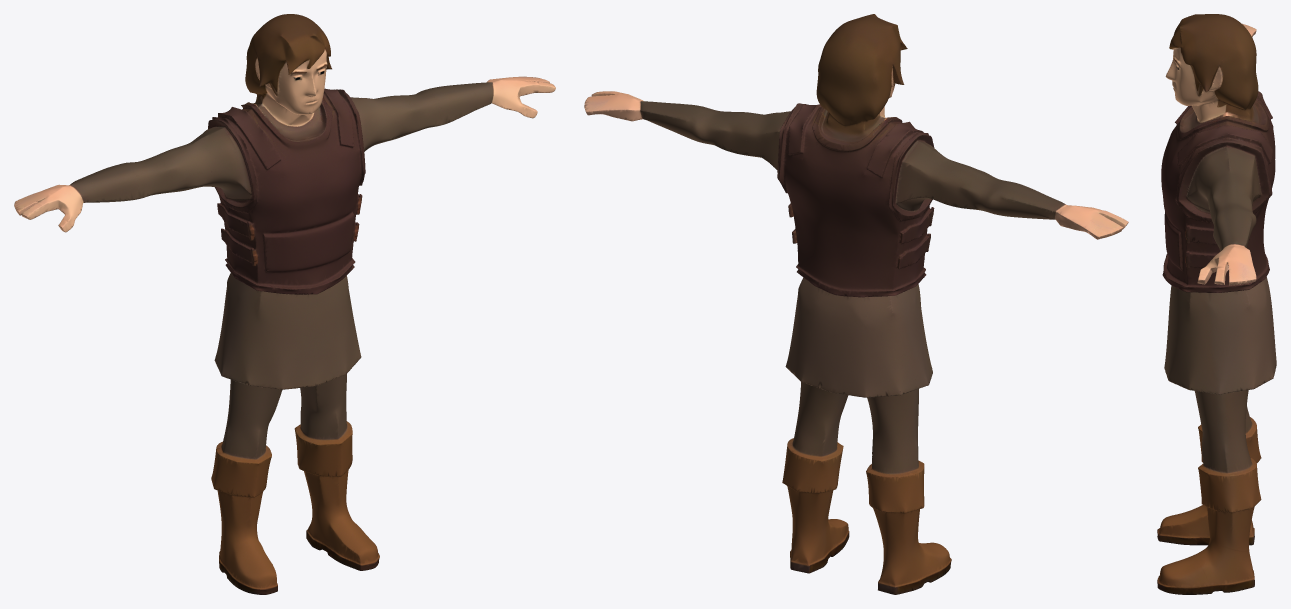
The model's file is archer_v2.glb.
3 views of the same model, side by side, from view 1: azimuth 30°, elevation 25°; view 2: azimuth 150°, elevation 25°; view 3: azimuth 270°, elevation 25° (orthographic).
Bounding box in the file's own units: 1.9 × 1.85 × 0.3691.
1 material, 1 textured.
